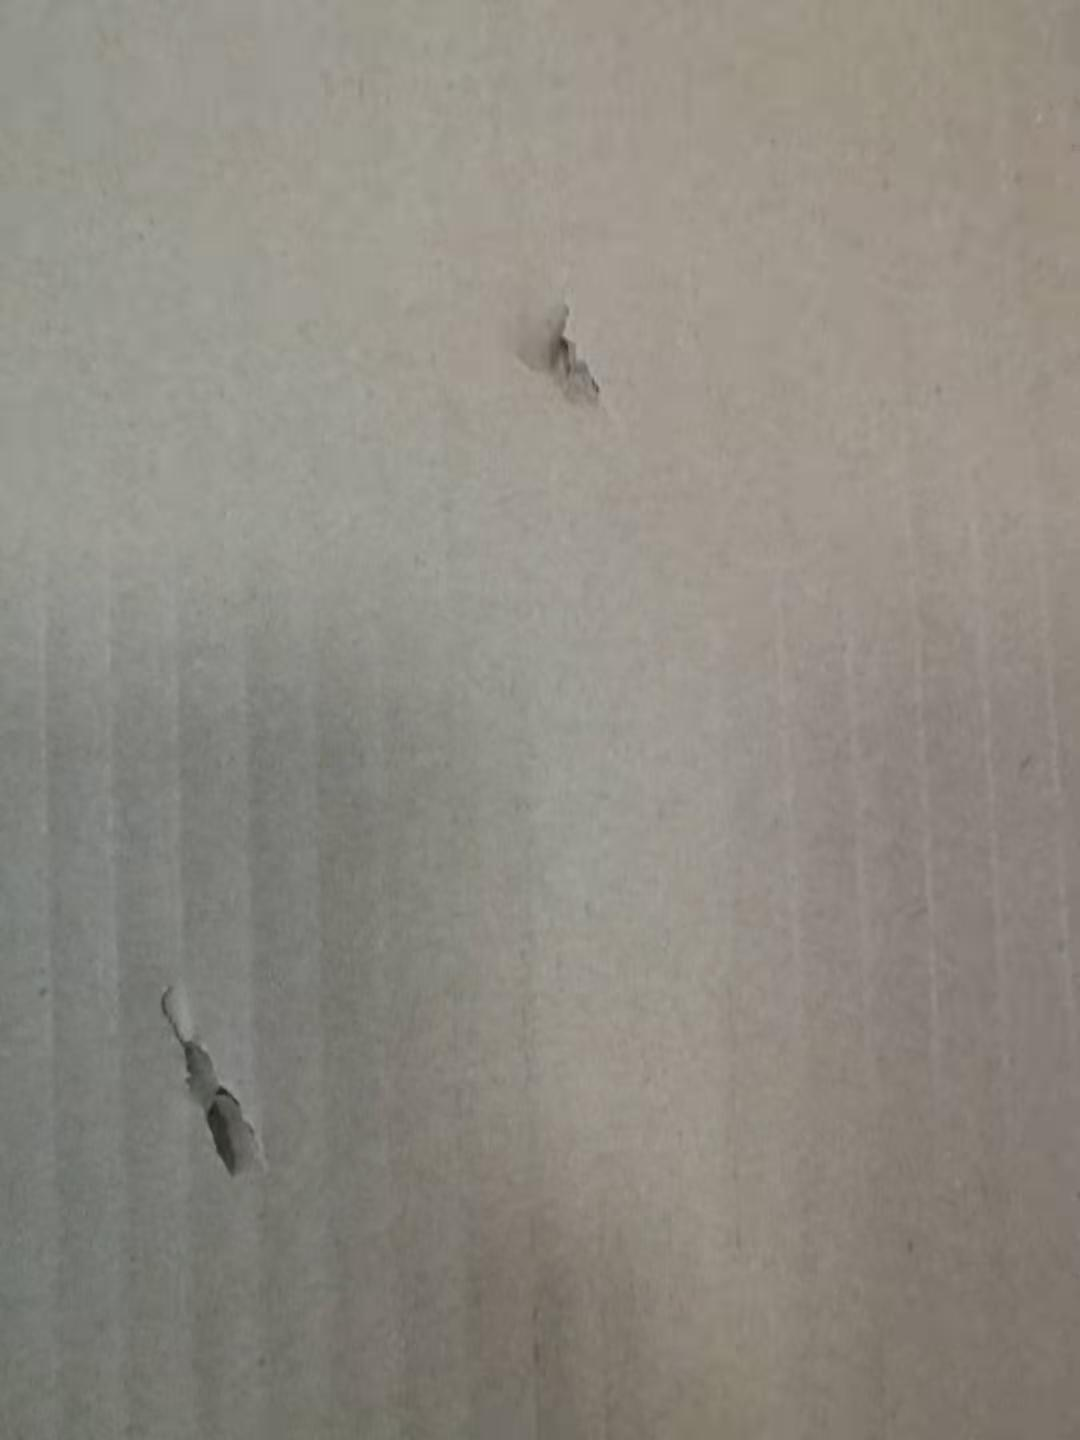defect: (119, 942, 312, 1213), (476, 264, 626, 433)
